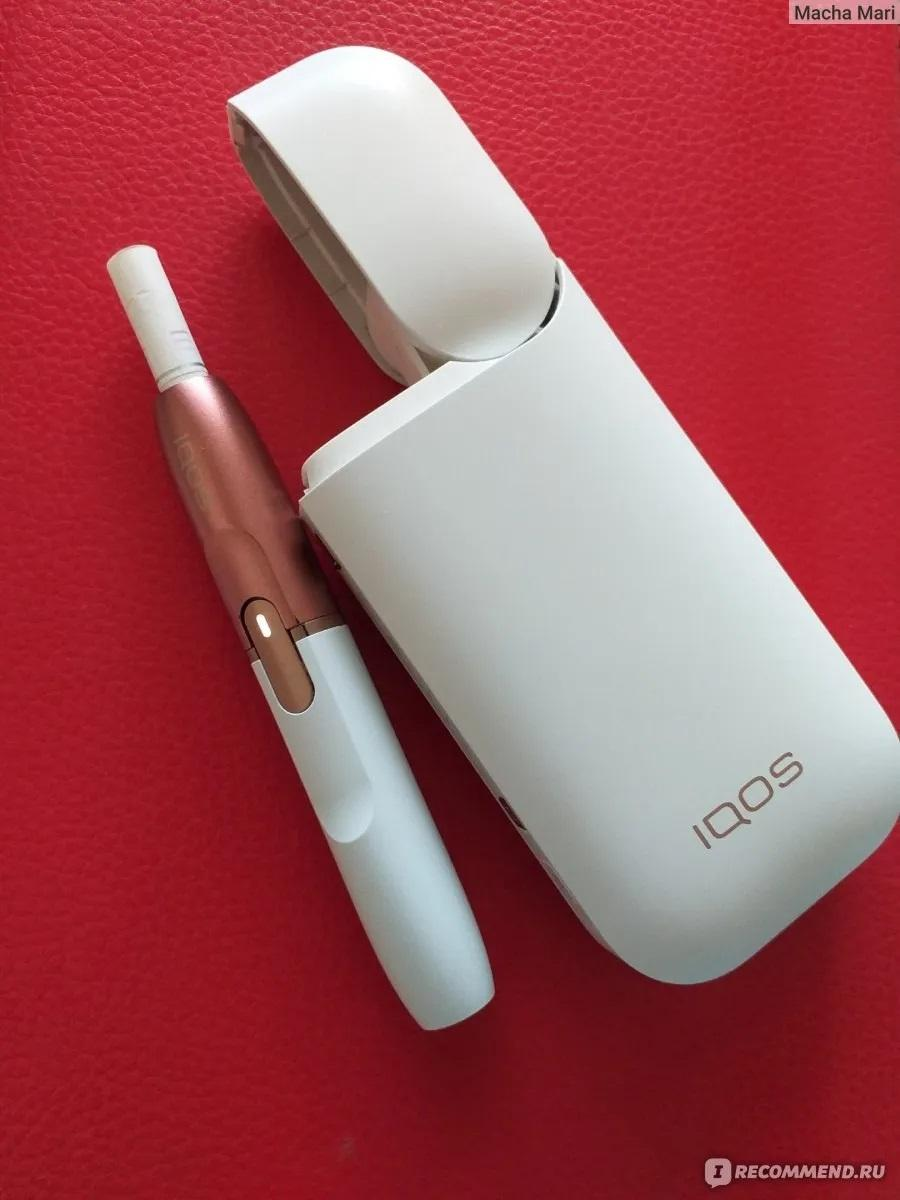iqos: (108, 246, 493, 1029)
